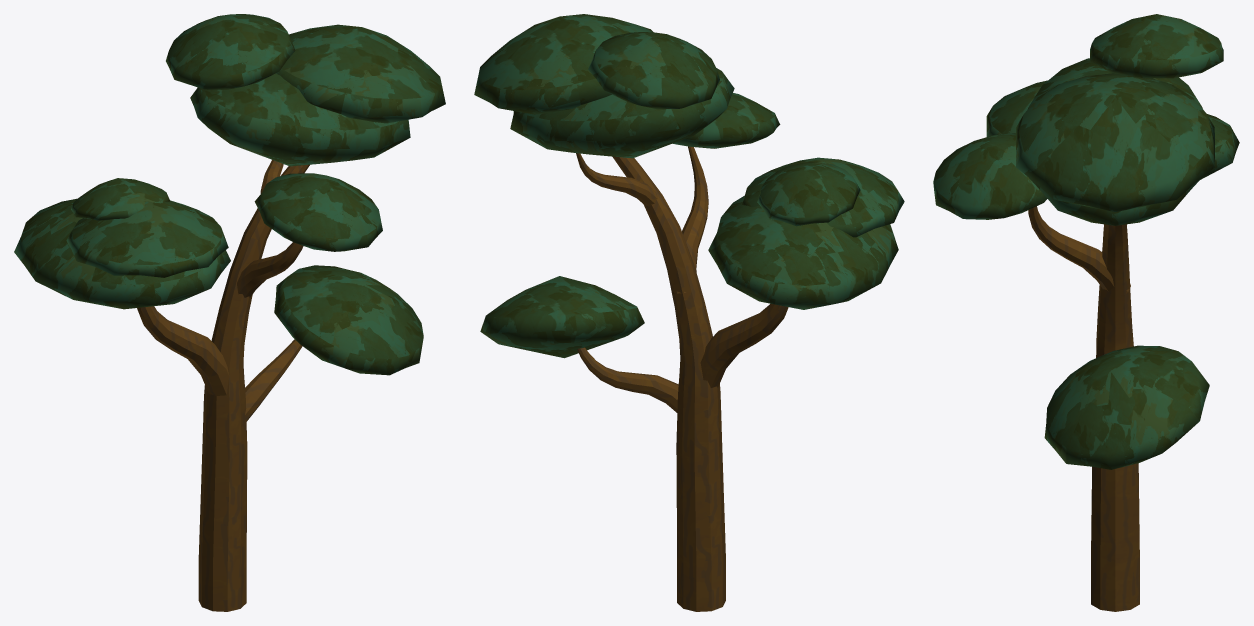
Rendered from tree_1.fbx.
The picture shows the model from 3 angles, left to right: view 1: azimuth 30°, elevation 25°; view 2: azimuth 150°, elevation 25°; view 3: azimuth 270°, elevation 25°; orthographic projection. The views are drawn at different scales.
Visible parts, largest first — view 1: curve4; view 2: curve4; view 3: curve4.
Boxes of the visible parts, x1=… form: curve4: x1=14, y1=14, x2=445, y2=611; curve4: x1=474, y1=14, x2=904, y2=611; curve4: x1=933, y1=14, x2=1239, y2=611.
Size of the model in its own units: 27.77 by 38 by 17.64.
